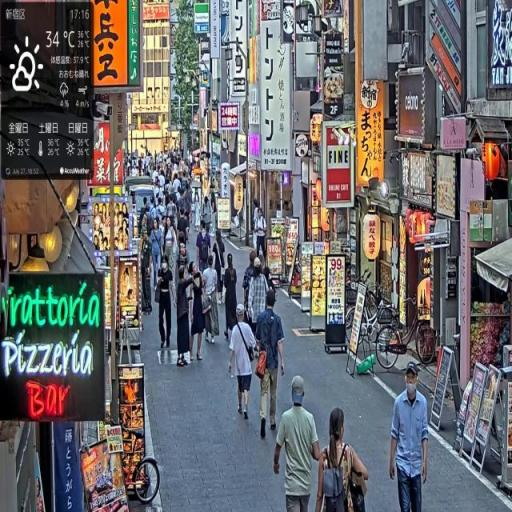person: (274, 375, 325, 512), (389, 361, 431, 511), (315, 406, 372, 512), (256, 290, 288, 440), (228, 307, 262, 422), (175, 263, 196, 371), (157, 254, 175, 357), (189, 267, 208, 364), (202, 255, 220, 343), (150, 219, 165, 294), (213, 231, 227, 309), (196, 220, 214, 280)
